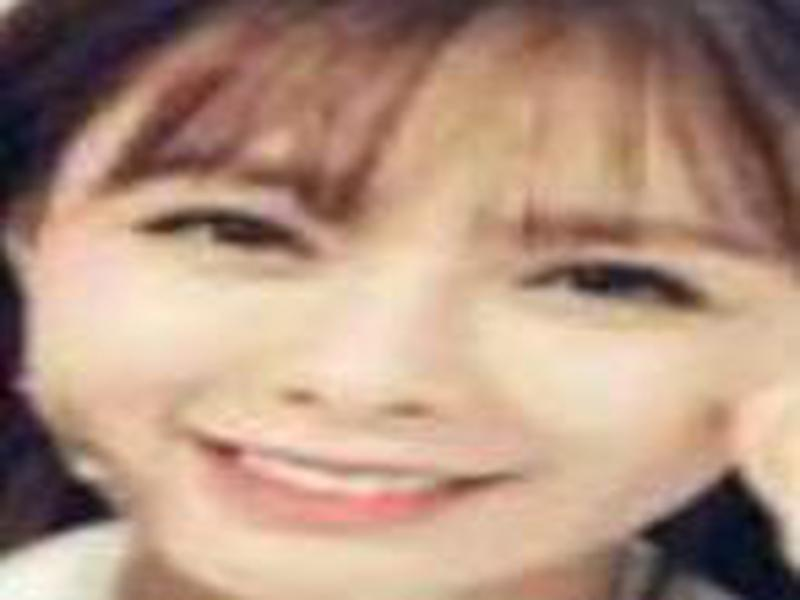without_mask: (25, 119, 800, 600)
